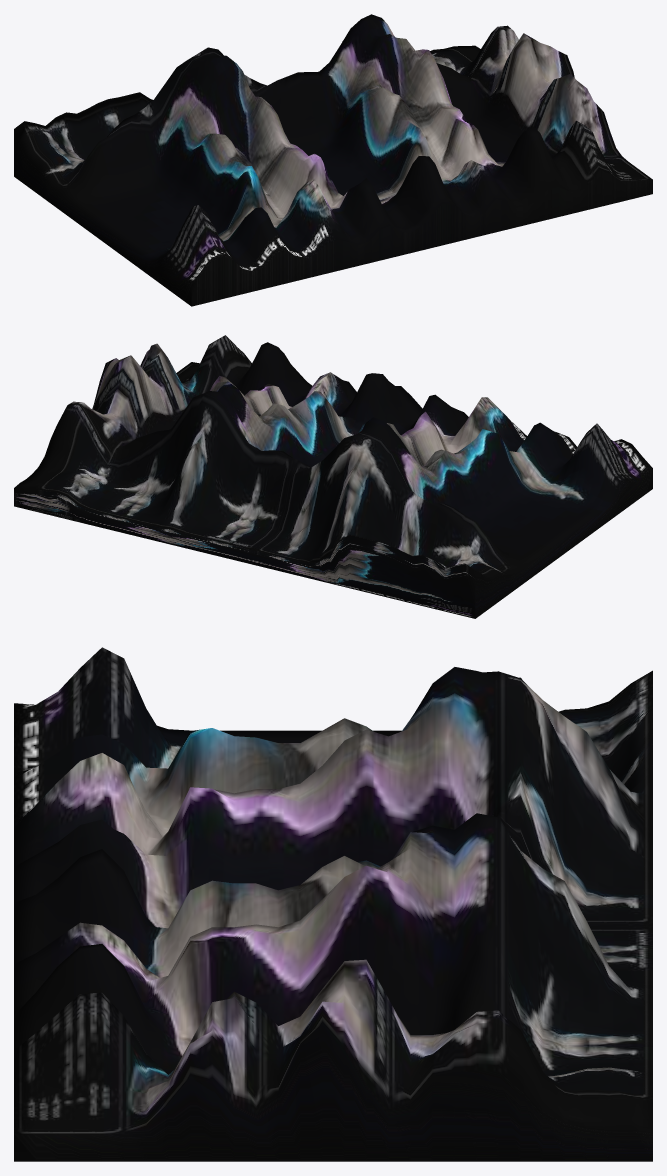
The model's file is BASE_04_Heavy_Mesh.glb.
3 views of the same model, one above another, from view 1: azimuth 30°, elevation 25°; view 2: azimuth 150°, elevation 25°; view 3: azimuth 270°, elevation 25° (orthographic). The views are drawn at different scales.
Visible parts, largest first — view 1: BASE_04_Heavy_Mesh; view 2: BASE_04_Heavy_Mesh; view 3: BASE_04_Heavy_Mesh.
Boxes of the visible parts, x1,y1,x2,y2 form: BASE_04_Heavy_Mesh: (14,14,652,306); BASE_04_Heavy_Mesh: (14,335,652,618); BASE_04_Heavy_Mesh: (14,647,652,1161).
Size of the model in its own units: 2 by 0.51 by 1.33.
Materials: 1 (1 with a texture image).
